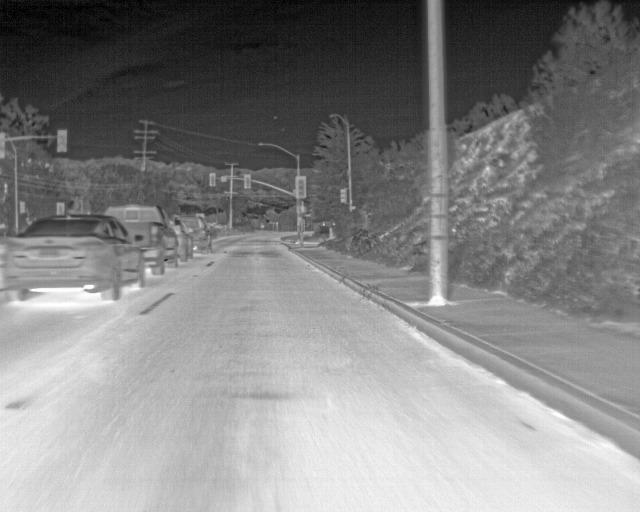car: (0, 213, 146, 301), (103, 204, 180, 276), (173, 215, 214, 255), (170, 219, 194, 262)
light: (57, 129, 67, 152), (0, 133, 6, 158), (297, 178, 304, 197), (58, 204, 63, 216), (341, 189, 345, 203), (20, 202, 25, 213), (246, 176, 250, 188), (211, 175, 214, 185)
sign: (221, 176, 227, 182)
